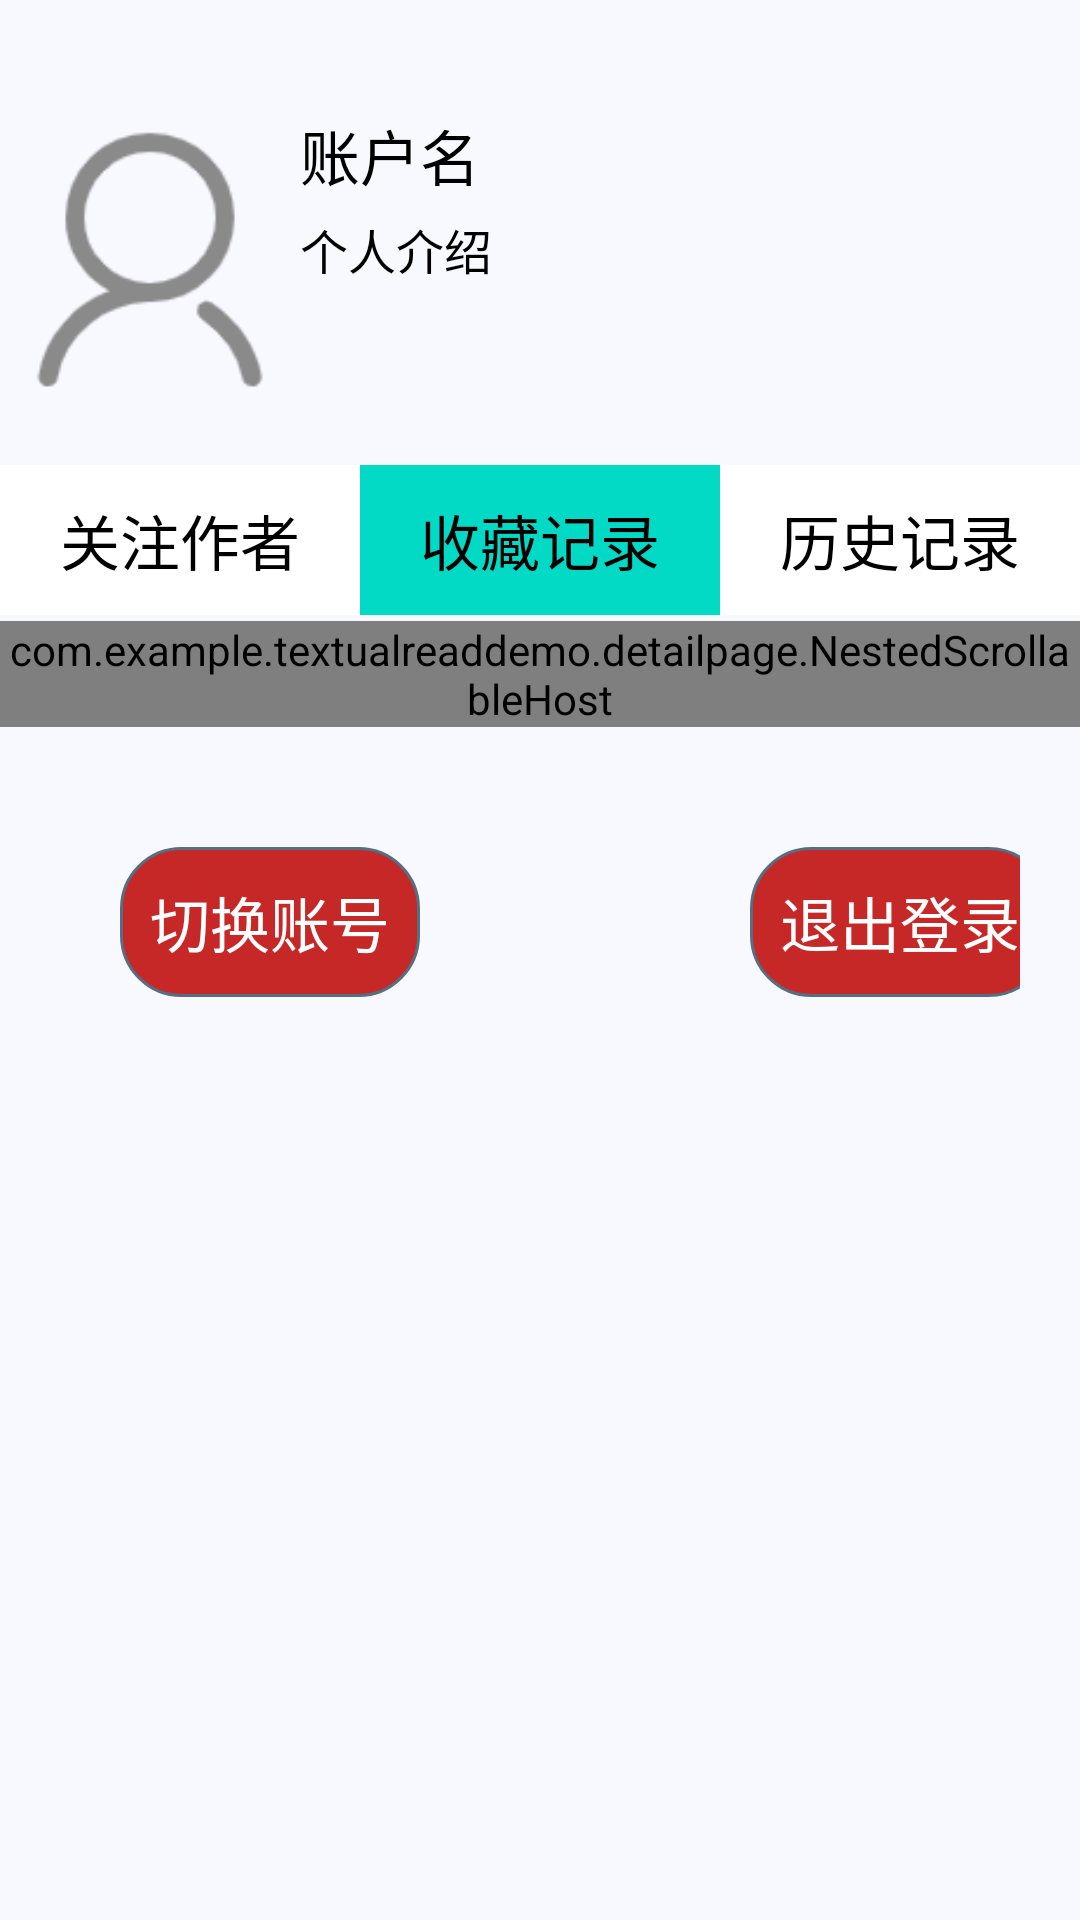

Screen size 1080×1920. Icon name, then its center in pixels as [x,y]:
head: [150,259]
